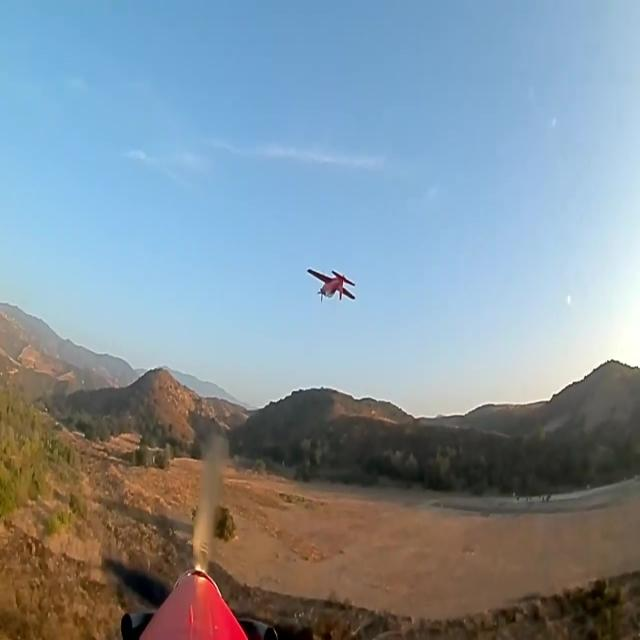iha: (300, 267, 350, 303)
